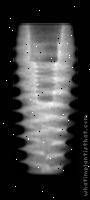Anthogyr: (14, 24, 77, 177)
